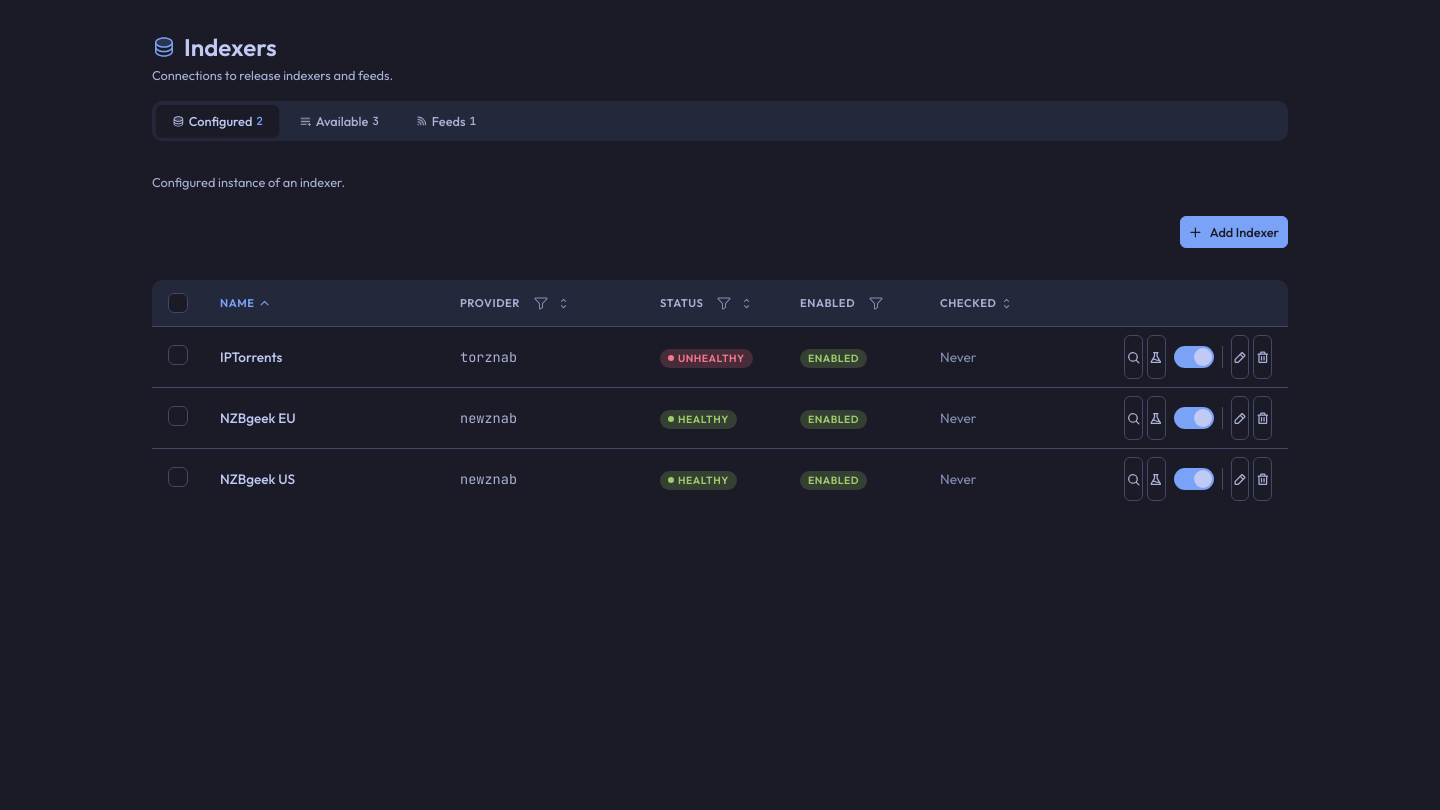
Test: Configured tab bulk test › leaves a failed instance selected with its message when a bulk test fails
Click the checkbox named "Select NZBgeek US".
click(178, 477)  # box x1=168 y1=467 x2=188 y2=487
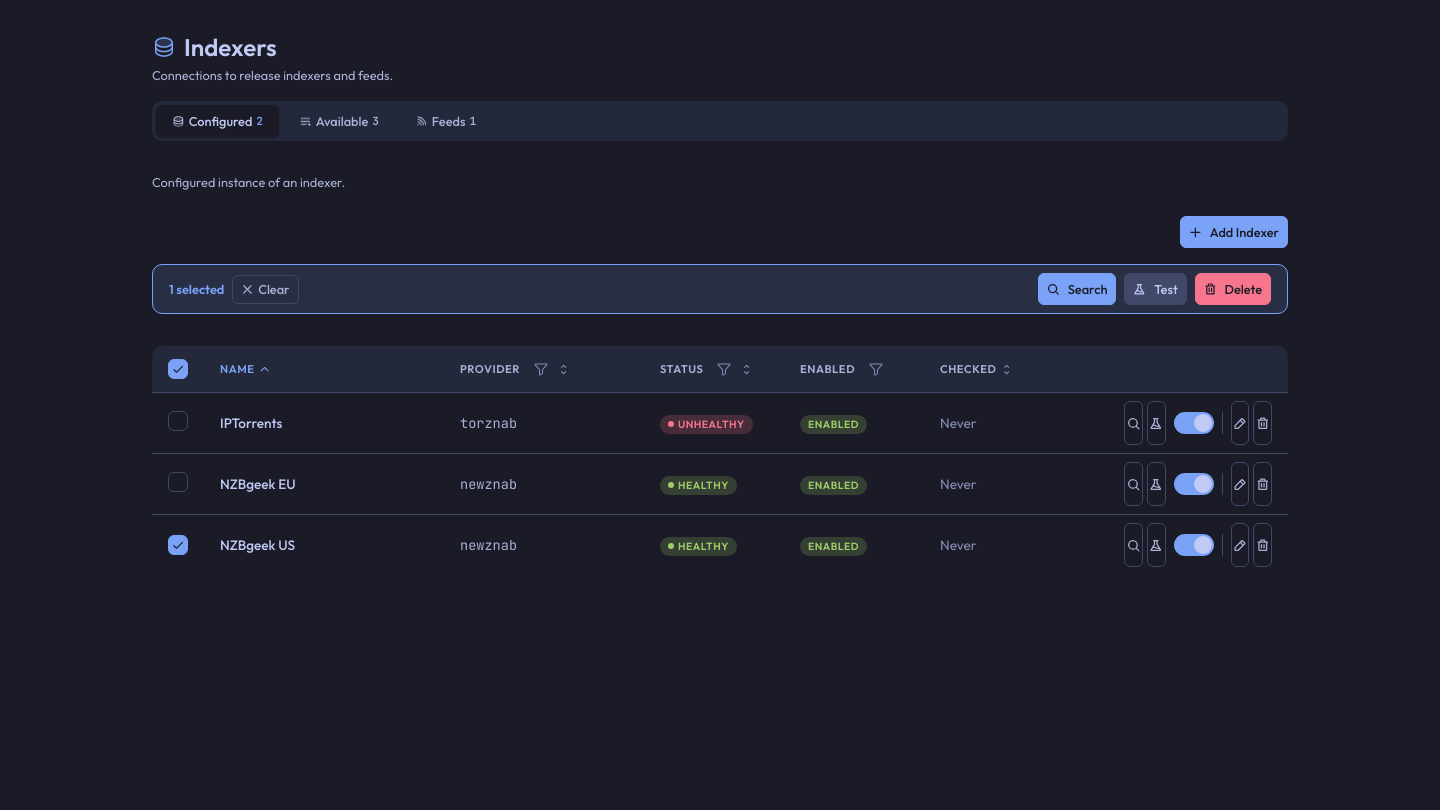
Click the checkbox named "Select NZBgeek EU".
click(178, 482)  # box x1=168 y1=472 x2=188 y2=492
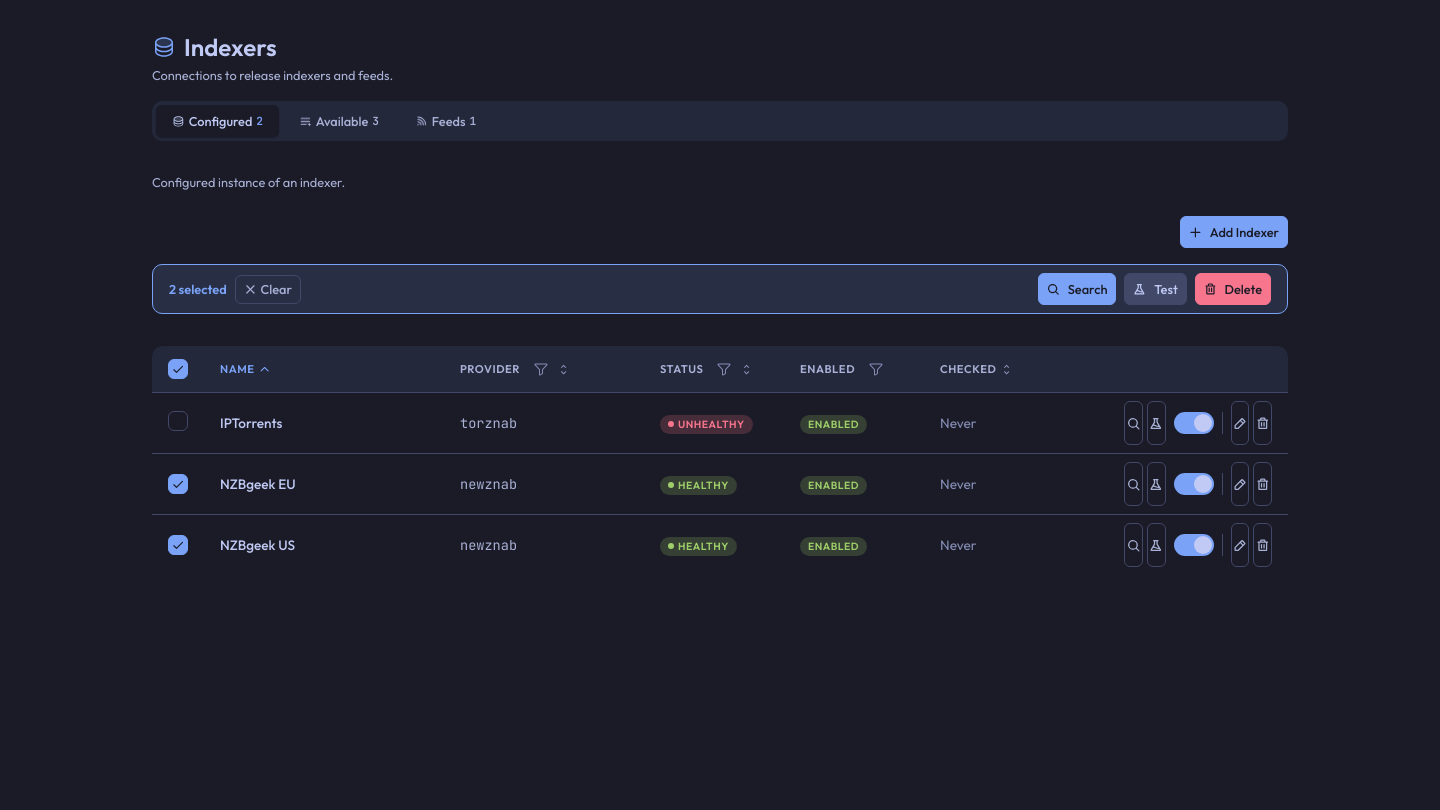
Click the button with aria-label "Test selected indexers".
click(1156, 289)  # box x1=1124 y1=273 x2=1187 y2=305
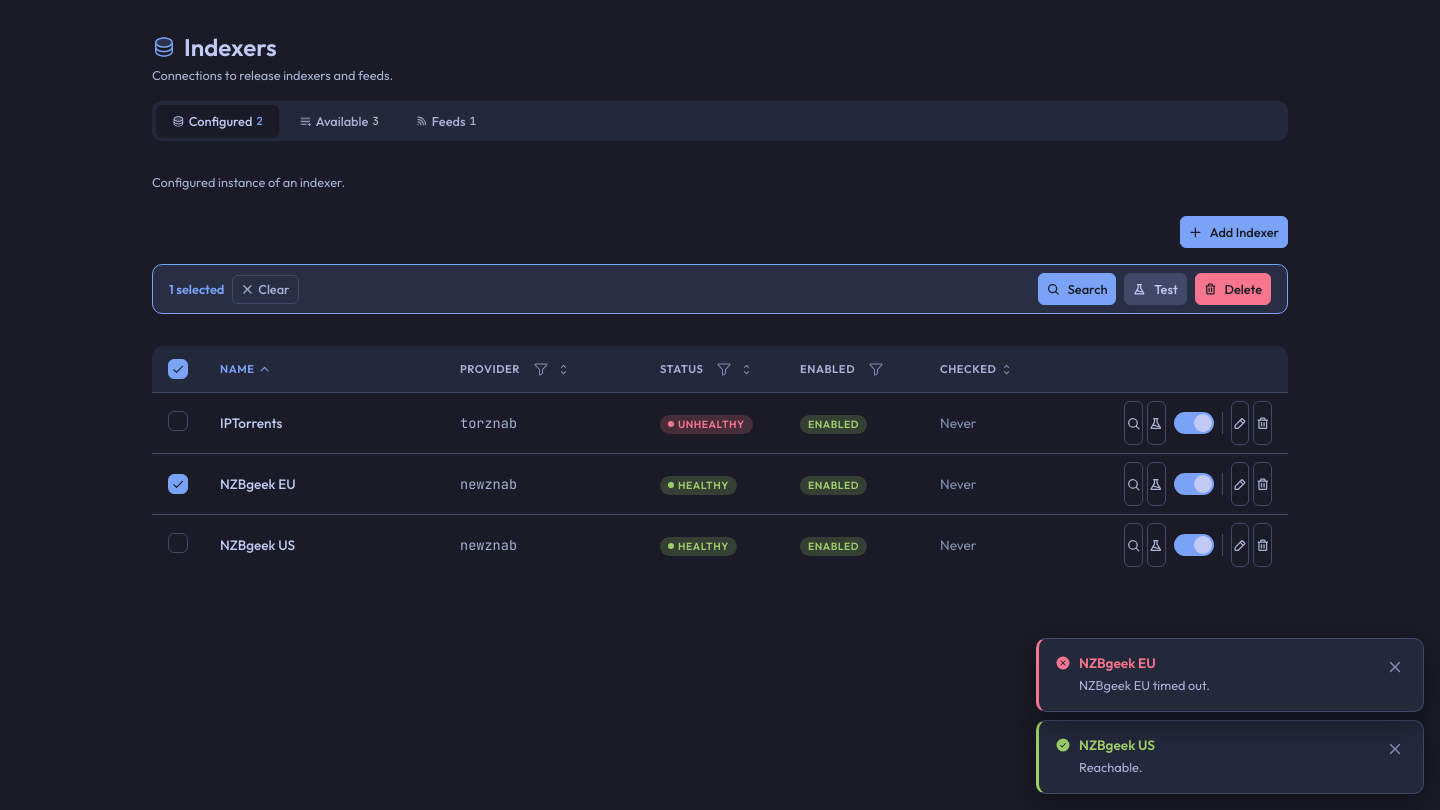
Expected: the checkbox named "Select NZBgeek EU" is checked, x1=168 y1=474 x2=188 y2=494
Expected: the text "NZBgeek EU timed out." is shown, x1=1079 y1=676 x2=1210 y2=695
Expected: the checkbox named "Select NZBgeek US" is not checked, x1=168 y1=533 x2=188 y2=553
